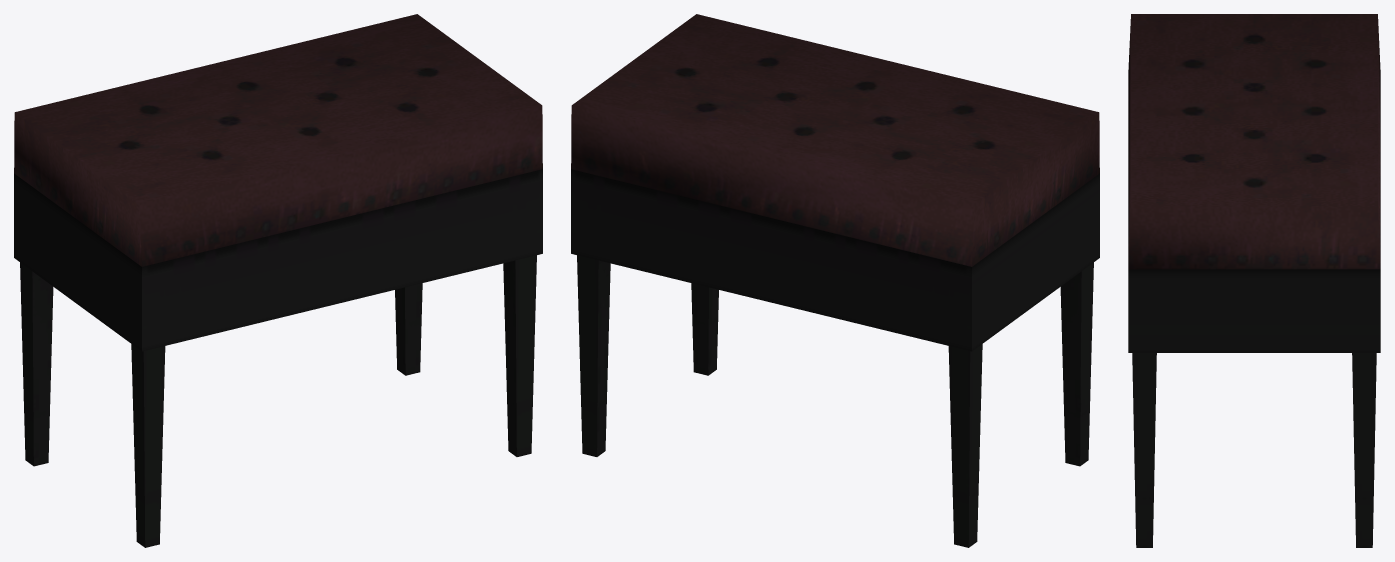
The model's file is dub_grand_piano_bench_lod3.glb.
3 renders of one model, left to right at view 1: azimuth 30°, elevation 25°; view 2: azimuth 150°, elevation 25°; view 3: azimuth 270°, elevation 25°, orthographic.
Parts seen in each view (by area): view 1: surf1, surf0; view 2: surf1, surf0; view 3: surf1, surf0.
Part boxes in pixels (bbox=[...]): surf1: bbox=[14, 14, 542, 266]; surf0: bbox=[14, 169, 542, 547]; surf1: bbox=[571, 14, 1099, 266]; surf0: bbox=[571, 169, 1099, 547]; surf1: bbox=[1128, 14, 1380, 269]; surf0: bbox=[1128, 269, 1380, 547].
Bounding box in the file's own units: 22.04 × 18.2 × 12.12.
